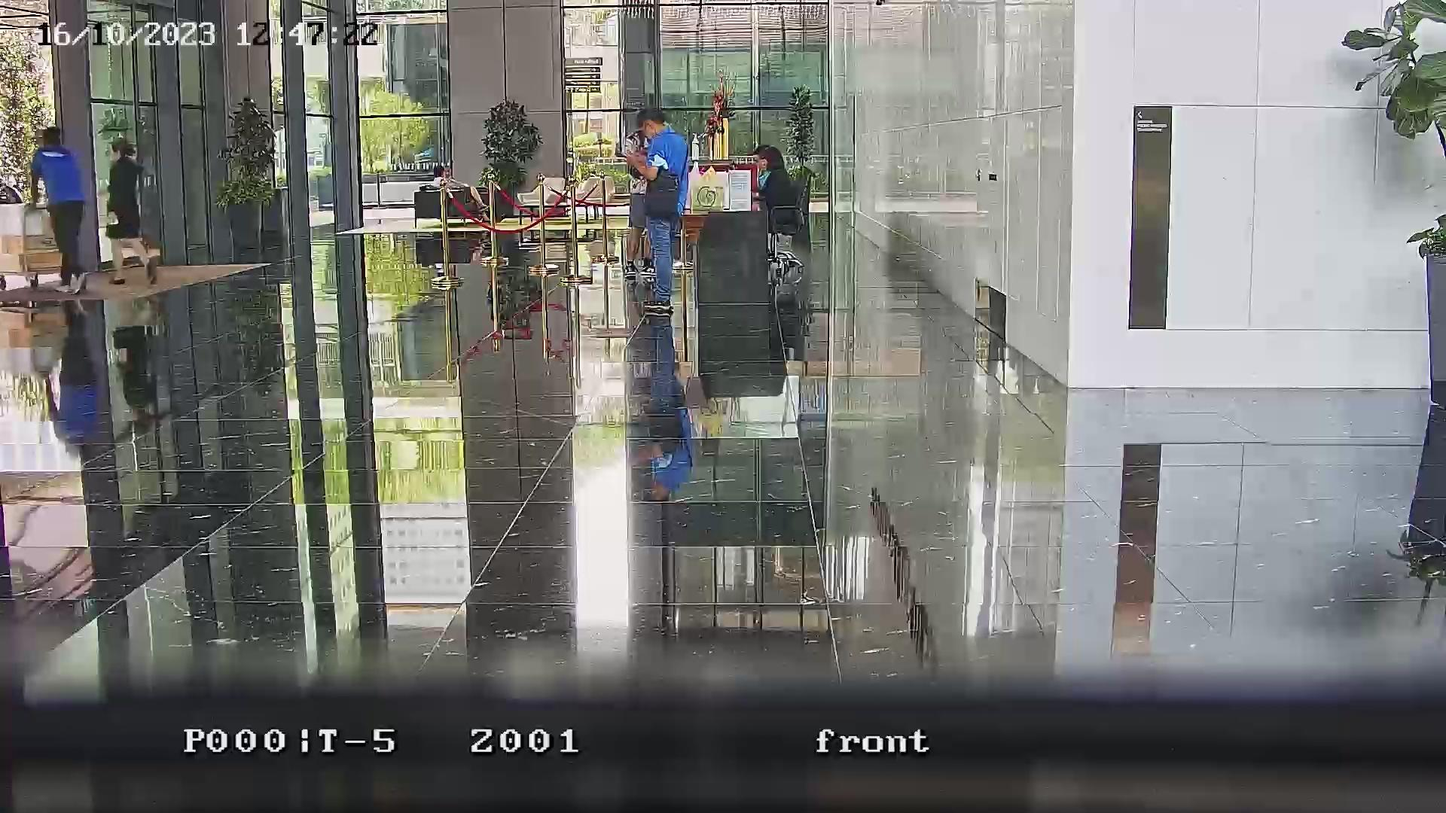person: (622, 108, 689, 309), (32, 127, 91, 295), (105, 136, 145, 277), (624, 114, 657, 279), (433, 163, 496, 225), (760, 146, 795, 222)
